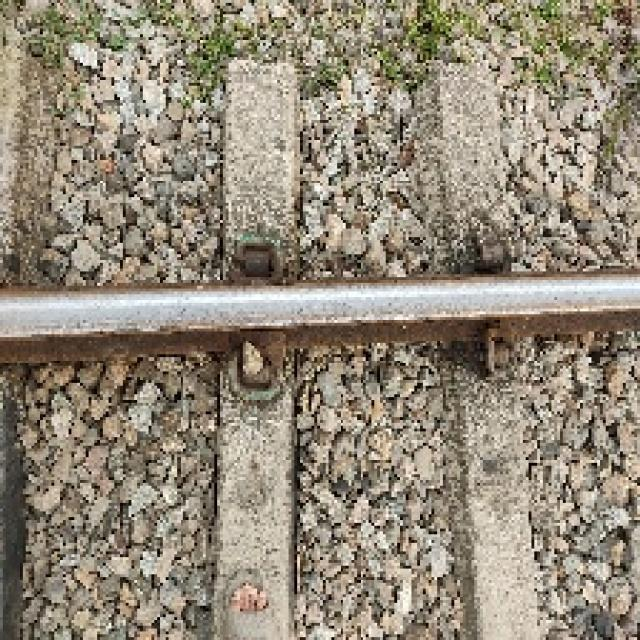Good Fasteners: (208, 334, 281, 412), (230, 226, 287, 288), (471, 329, 514, 378)
Missing Fastener: (456, 222, 511, 269)
